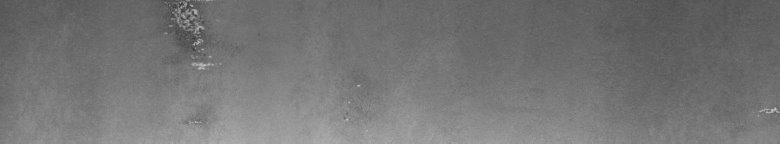hc: (160, 4, 222, 125)
